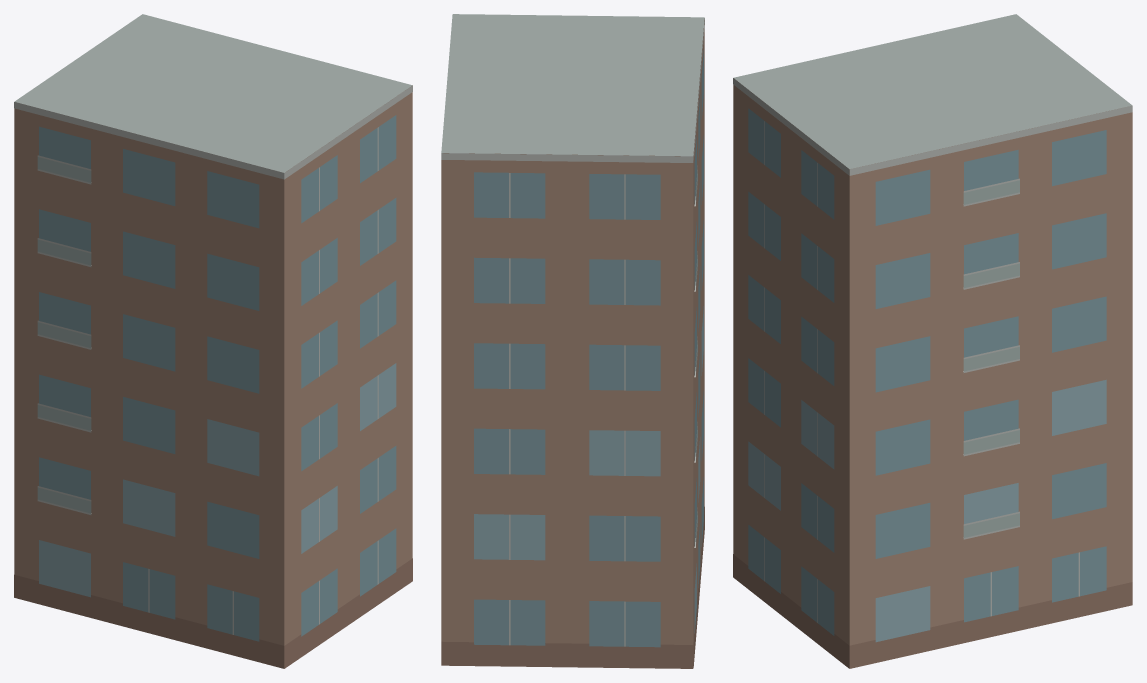
File: survey-upis-32834918.glb
The picture shows the model from 3 angles, left to right: view 1: azimuth 30°, elevation 25°; view 2: azimuth 150°, elevation 25°; view 3: azimuth 270°, elevation 25°; orthographic projection. The views are drawn at different scales.
Parts seen in each view (by area): view 1: survey-upis-32834918.tmp; view 2: survey-upis-32834918.tmp; view 3: survey-upis-32834918.tmp.
Boxes of the visible parts, x1,y1,x2,y2 form: survey-upis-32834918.tmp: (14, 14, 412, 668); survey-upis-32834918.tmp: (441, 14, 704, 668); survey-upis-32834918.tmp: (733, 14, 1132, 668).
Size of the model in its own units: 12.21 by 18.3 by 13.27.
